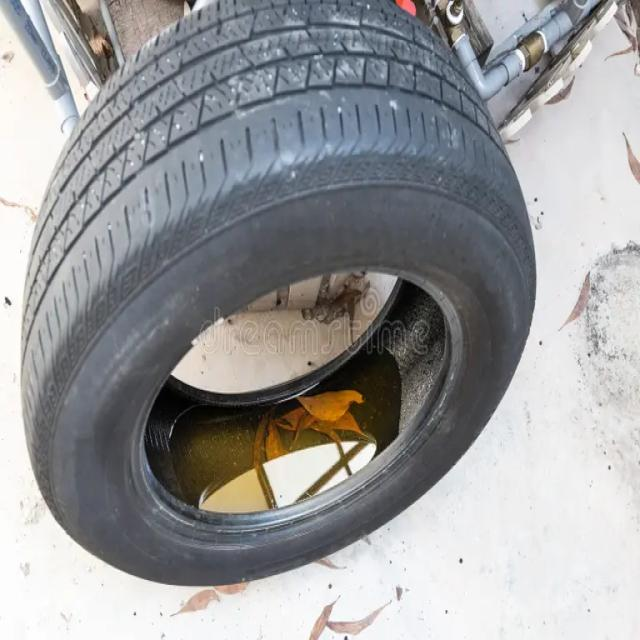tire: (19, 0, 538, 588)
